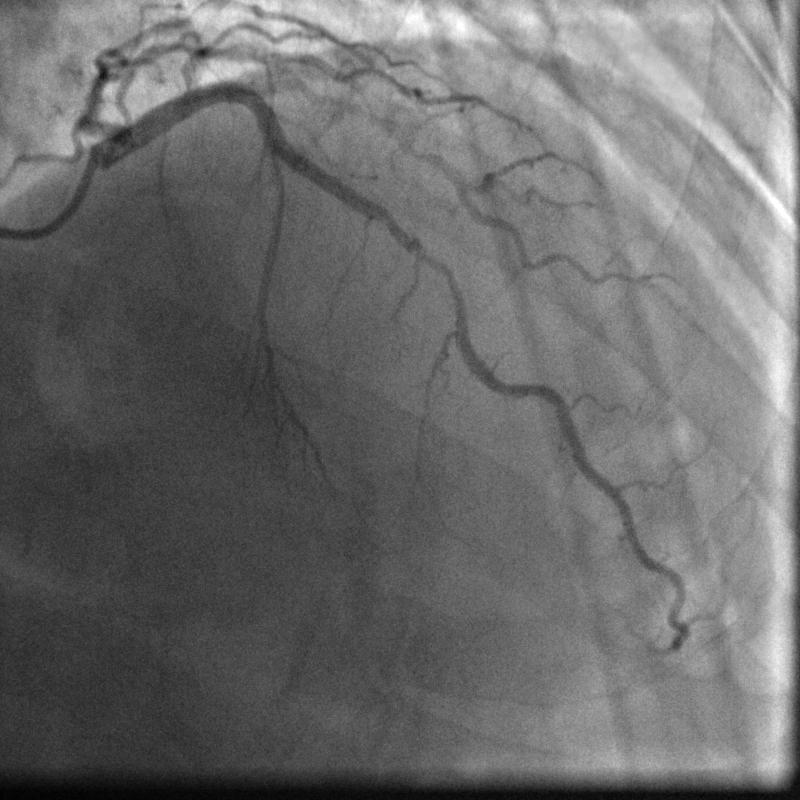Stenosis: (396, 223, 472, 316)
